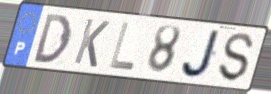8: (144, 24, 182, 77)
D: (32, 12, 73, 65)
J: (180, 29, 223, 81)
K: (71, 17, 112, 70)
L: (107, 20, 137, 73)
S: (217, 32, 256, 85)
